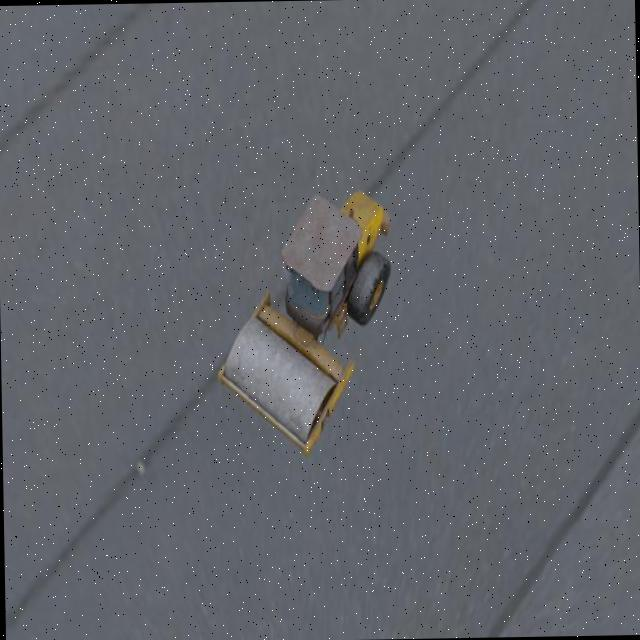Roller: (214, 188, 394, 458)
